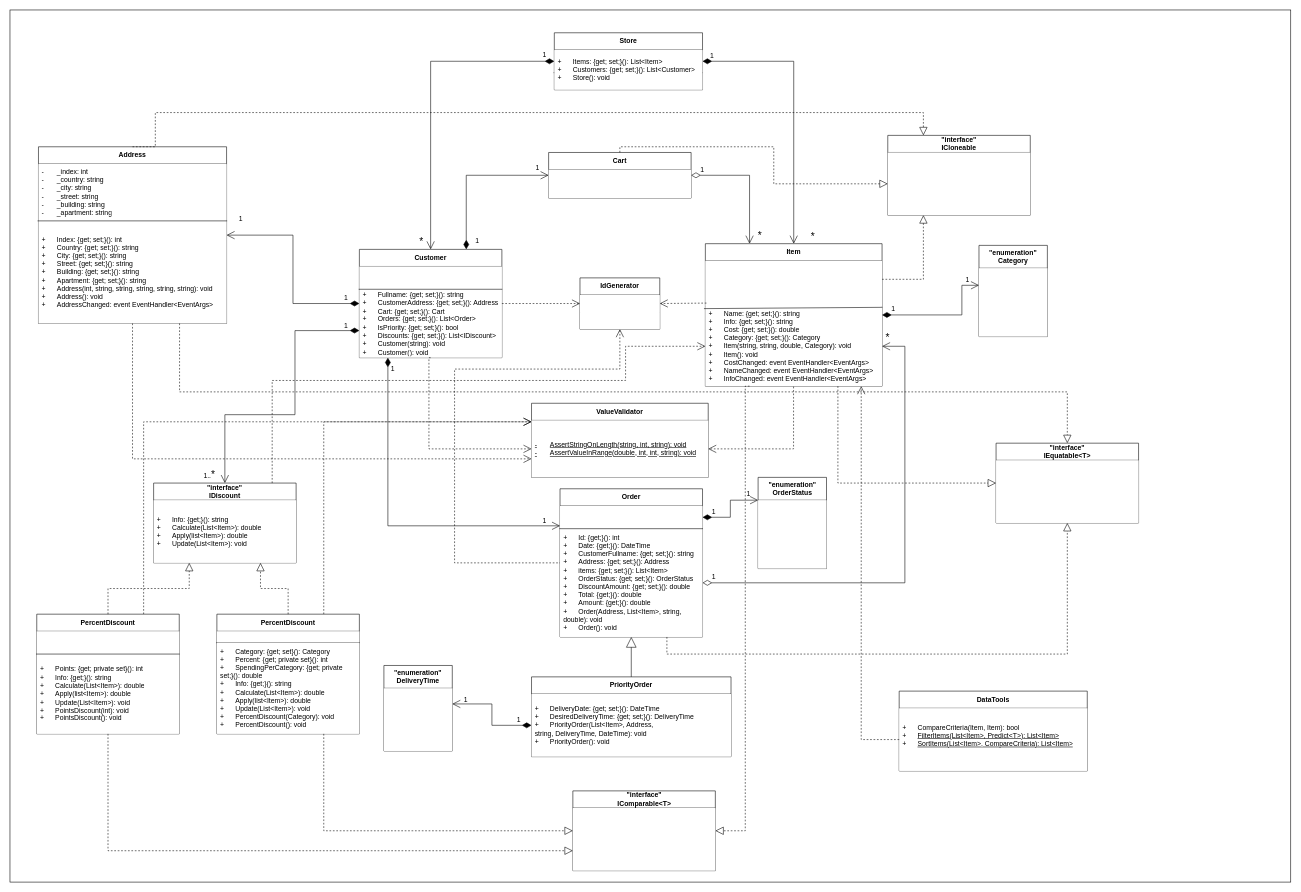
Some shapes in this 1301 by 892 pixel diagram are drawn without their labels. The centre of each missing label's shape, as x and y in pixels:
"+ Clone(): object" goes at point 958,183.
"+ CompareTo( T ): int" goes at point 644,839.
"+ Equals(T): bool + Equals(object): override bool" goes at point 1067,491.
"+ Items: {get; set;}(): List<Item> + Amount: {get;}(): double + Cart(): void" goes at point 619,183.
"- _id: int - _data: DateTime" goes at point 631,517.
"- _id: readonly int - _fullname: string" goes at point 430,277.
"- _id: readonly int - _name: string - _info: string - _cost: double" goes at point 793,283.
"- _nextId: int" goes at point 619,303.
"- _percent: int" goes at point 288,636.
"- _points: int - _maxDiscountPercentage: const int" goes at point 107,642.
"- GetNextId(): int" goes at point 619,320.
"Medicine Clothing Products Technique Chancellery Books Groceries" goes at point 1013,302.
"Morning Lunch Afternoon Evening LateEvening Night" goes at point 418,719.
"New Processing Assembly Sent Delivered Returned Abandoned" goes at point 792,534.
